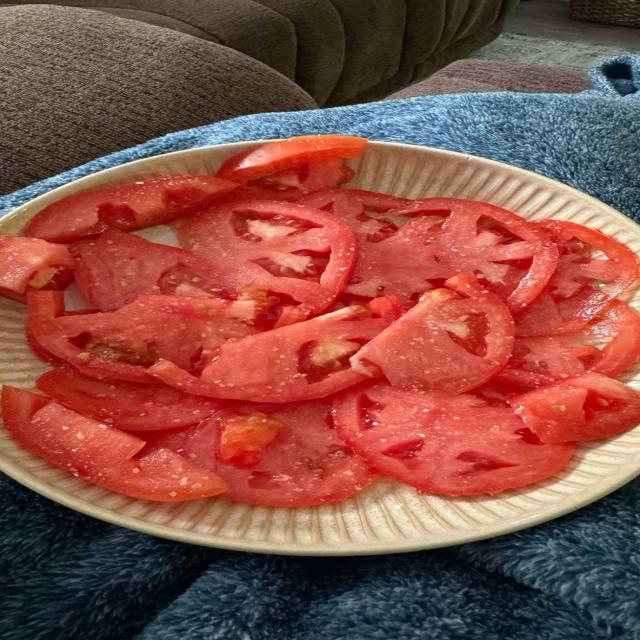sliced_tomato: (334, 383, 573, 495), (149, 298, 400, 402), (2, 386, 226, 501), (347, 198, 557, 311), (178, 200, 355, 325), (178, 401, 378, 506), (27, 292, 256, 381), (351, 276, 513, 392), (24, 175, 237, 242), (516, 220, 638, 336), (2, 386, 144, 476), (37, 367, 228, 431), (496, 301, 639, 386), (71, 233, 220, 311), (509, 373, 639, 443), (217, 135, 367, 195), (88, 449, 227, 501), (299, 189, 412, 242), (496, 337, 600, 386), (0, 236, 73, 301), (580, 301, 639, 377), (218, 410, 280, 468), (1, 386, 50, 432), (468, 380, 529, 407), (47, 298, 96, 315)
